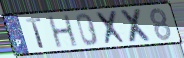0: (76, 11, 99, 47)
8: (149, 7, 173, 42)
H: (46, 13, 80, 49)
T: (24, 16, 46, 49)
X: (118, 8, 155, 44), (94, 9, 129, 46)
